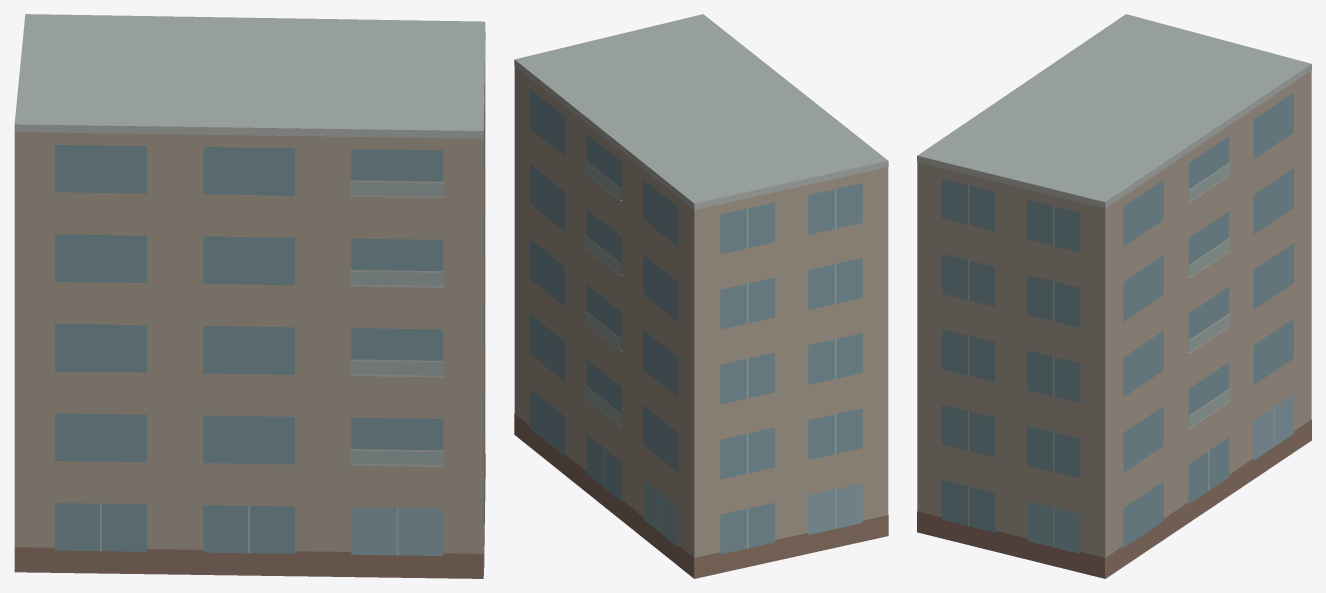
File: survey-upis-32964640.glb
The picture shows the model from 3 angles, left to right: view 1: azimuth 30°, elevation 25°; view 2: azimuth 150°, elevation 25°; view 3: azimuth 270°, elevation 25°; orthographic projection. The views are drawn at different scales.
Parts seen in each view (by area): view 1: survey-upis-32964640.tmp; view 2: survey-upis-32964640.tmp; view 3: survey-upis-32964640.tmp.
Part boxes in pixels (<box>): survey-upis-32964640.tmp: <box>14,14,485,578</box>; survey-upis-32964640.tmp: <box>514,14,888,578</box>; survey-upis-32964640.tmp: <box>917,14,1311,578</box>.
Size of the model in its own units: 15.23 by 14.2 by 13.49.
